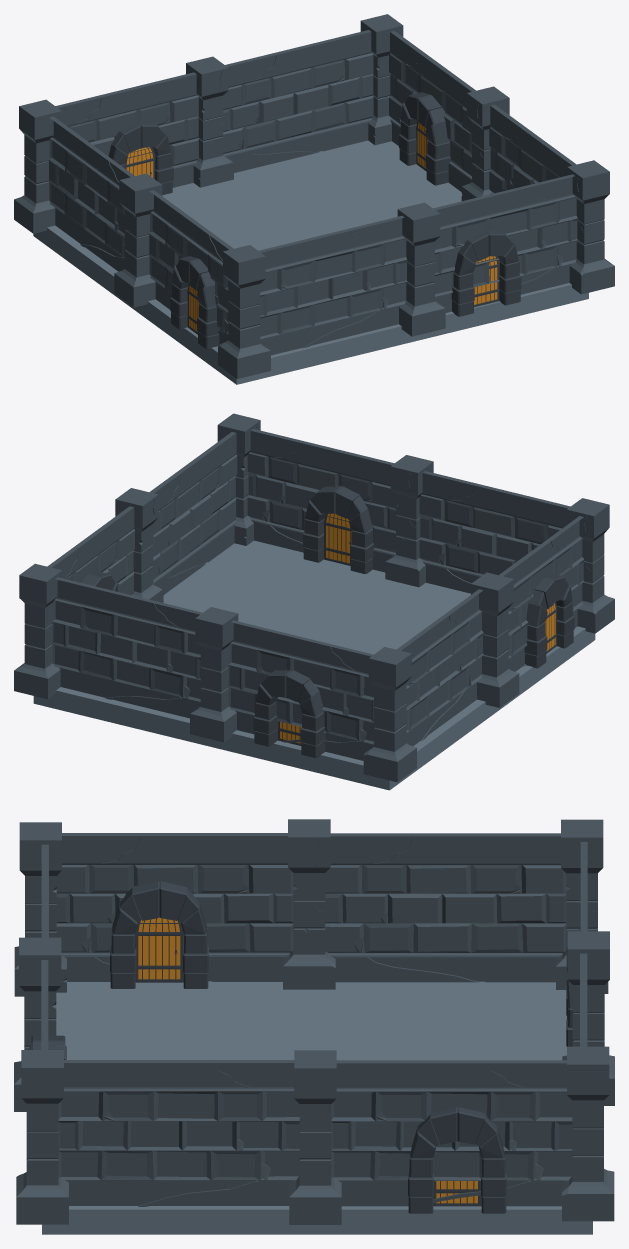
The model's file is Room4C.obj.
3 renders of one model, top to bottom at view 1: azimuth 30°, elevation 25°; view 2: azimuth 150°, elevation 25°; view 3: azimuth 270°, elevation 25°, orthographic. The views are drawn at different scales.
Visible parts, largest first — view 1: Pillar+Wall.015, Pillar+Wall.012, Cube.252, Pillar+Wall.013, Pillar+Wall.014, Arch.010, Arch.012, Arch.013, Arch.011, door.010, door.011; view 2: Pillar+Wall.012, Pillar+Wall.015, Cube.252, Pillar+Wall.013, Pillar+Wall.014, Arch.011, Arch.010, Arch.013, door.010; view 3: Pillar+Wall.014, Pillar+Wall.013, Cube.252, Pillar+Wall.012, Pillar+Wall.015, Arch.013, Arch.012, door.013, door.012.
Boxes of the visible parts, left/top/right/bottom form: Pillar+Wall.015: left=218, top=174, right=577, bottom=378; Pillar+Wall.012: left=55, top=14, right=403, bottom=187; Cube.252: left=33, top=140, right=588, bottom=384; Pillar+Wall.013: left=14, top=99, right=233, bottom=344; Pillar+Wall.014: left=389, top=31, right=614, bottom=294; Arch.010: left=451, top=230, right=521, bottom=316; Arch.012: left=399, top=92, right=451, bottom=185; Arch.013: left=170, top=256, right=219, bottom=349; Arch.011: left=108, top=121, right=173, bottom=195; door.010: left=474, top=256, right=499, bottom=307; door.011: left=125, top=147, right=155, bottom=179; Pillar+Wall.012: left=14, top=563, right=374, bottom=760; Pillar+Wall.015: left=247, top=429, right=614, bottom=633; Cube.252: left=33, top=540, right=595, bottom=790; Pillar+Wall.013: left=363, top=516, right=584, bottom=782; Pillar+Wall.014: left=47, top=413, right=260, bottom=602; Arch.011: left=253, top=670, right=325, bottom=758; Arch.010: left=303, top=486, right=374, bottom=573; Arch.013: left=524, top=574, right=574, bottom=668; door.010: left=323, top=513, right=351, bottom=565; Pillar+Wall.014: left=16, top=1050, right=572, bottom=1224; Pillar+Wall.013: left=56, top=819, right=608, bottom=993; Cube.252: left=42, top=981, right=592, bottom=1234; Pillar+Wall.012: left=562, top=842, right=614, bottom=1221; Pillar+Wall.015: left=14, top=822, right=66, bottom=1111; Arch.013: left=110, top=881, right=208, bottom=988; Arch.012: left=408, top=1107, right=506, bottom=1213; door.013: left=135, top=917, right=183, bottom=982; door.012: left=433, top=1180, right=481, bottom=1206.
Bounding box in the file's own units: 10.88 × 3.51 × 10.91.
Materials: 1 (1 with a texture image).
